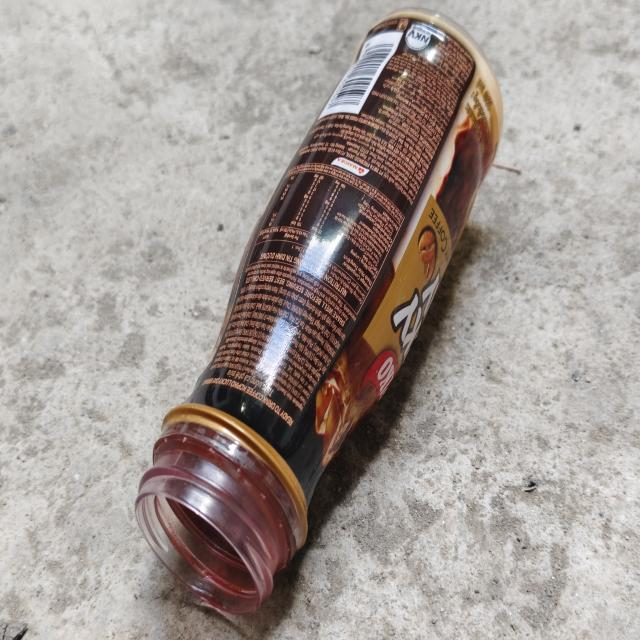Bottle: (135, 11, 503, 615)
